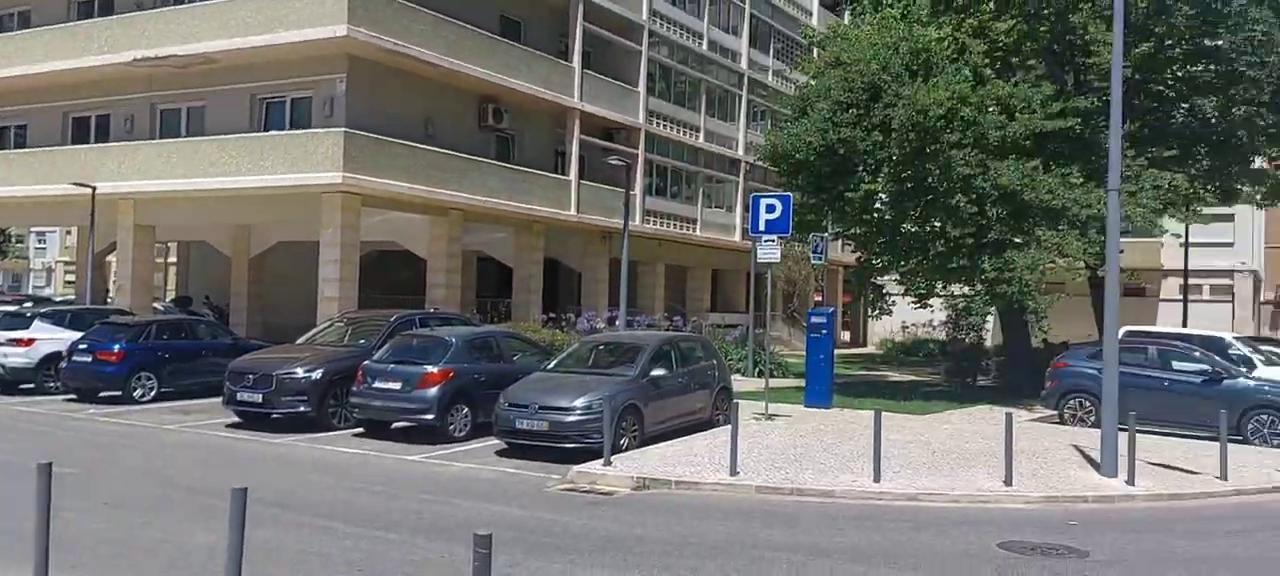Estacionamento autorizado: (745, 189, 796, 240)
